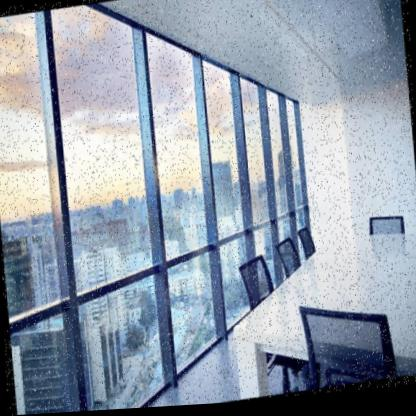Window: (48, 0, 176, 414), (145, 17, 230, 391), (202, 57, 262, 345)
